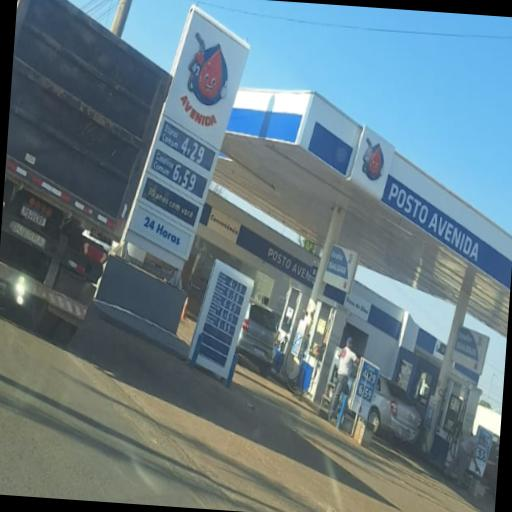placa: (190, 262, 254, 378)
